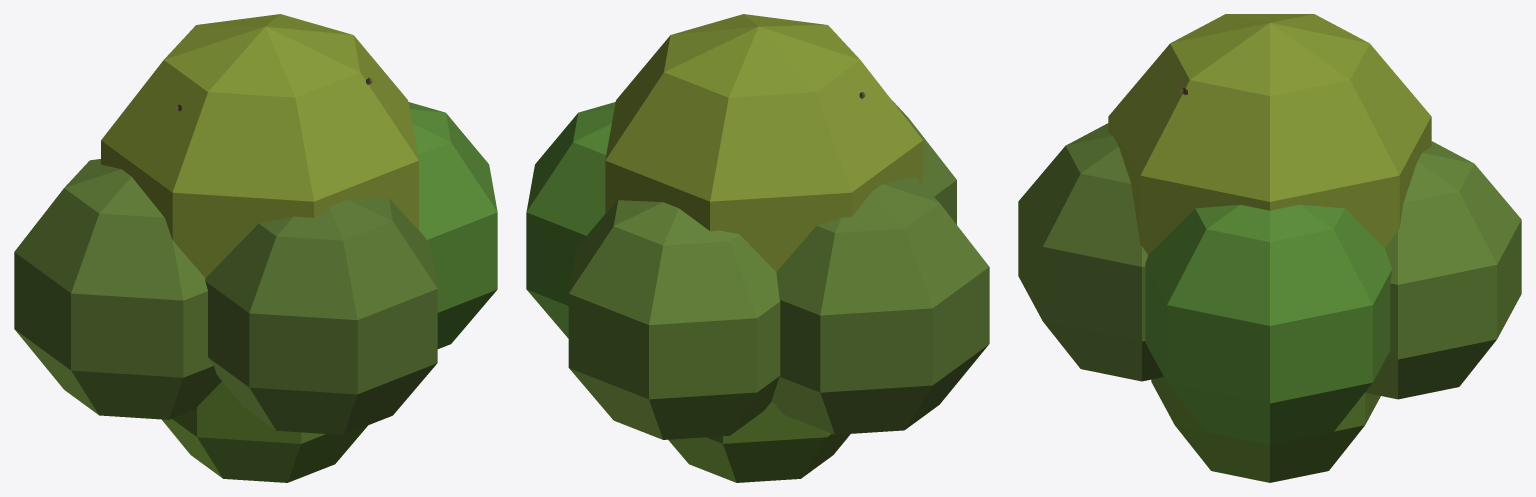
File: valley-broadleaf.glb
3 renders of one model, left to right at view 1: azimuth 30°, elevation 25°; view 2: azimuth 150°, elevation 25°; view 3: azimuth 270°, elevation 25°, orthographic.
Parts seen in each view (by area): view 1: BroadleafCanopy; view 2: BroadleafCanopy; view 3: BroadleafCanopy.
Part boxes in pixels (box(x1,y1,x2,y2)): BroadleafCanopy: box(14, 14, 497, 482); BroadleafCanopy: box(526, 14, 989, 482); BroadleafCanopy: box(1018, 14, 1521, 482).
Size of the model in its own units: 4.94 by 4.85 by 4.91.
2 materials, 1 textured.
